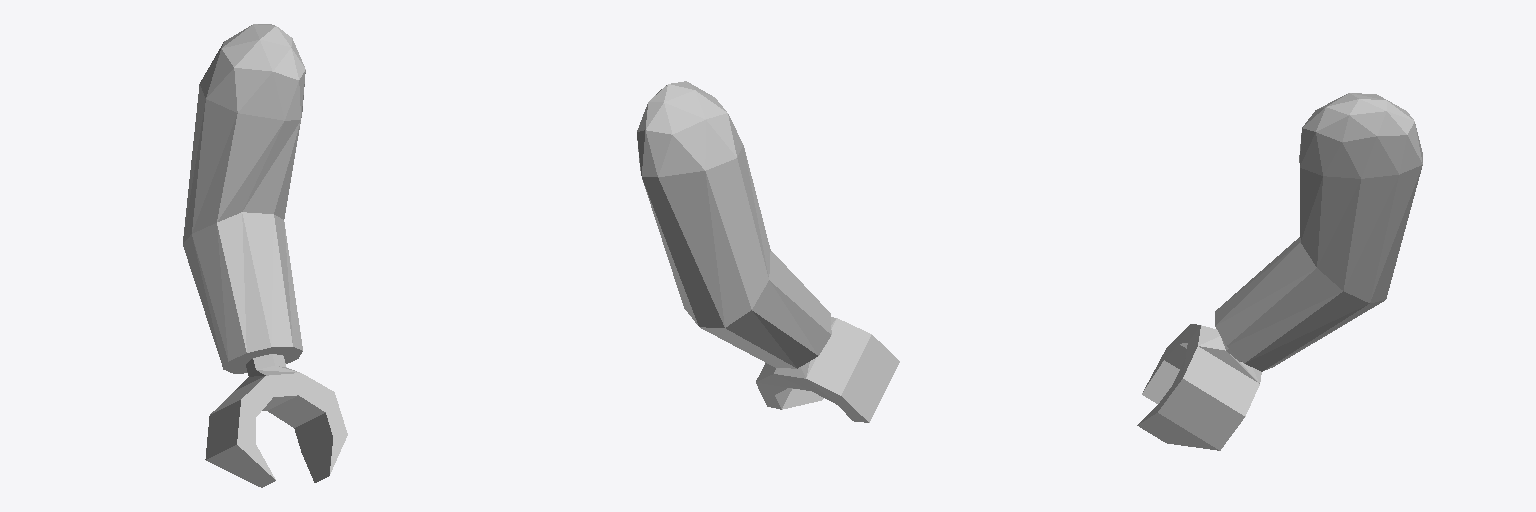
The model's file is BrazoDerechoLego.obj.
The picture shows the model from 3 angles: view 1: azimuth 30°, elevation 25°; view 2: azimuth 150°, elevation 25°; view 3: azimuth 270°, elevation 25°; orthographic projection.
Parts seen in each view (by area): view 1: BrazoDerecho; view 2: BrazoDerecho; view 3: BrazoDerecho.
Boxes of the visible parts, <box> form: BrazoDerecho: <box>183,24,347,487</box>; BrazoDerecho: <box>637,81,899,422</box>; BrazoDerecho: <box>1137,93,1422,450</box>.
Size of the model in its own units: 0.703 by 1.65 by 1.15.